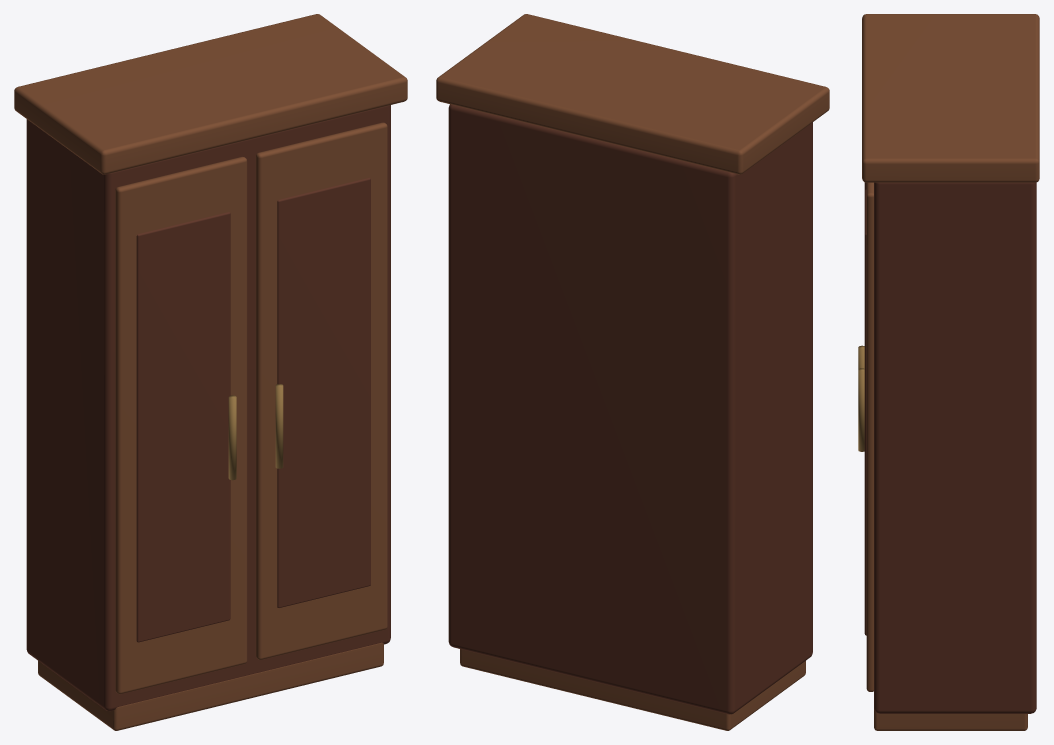
Rendered from wardrobe.glb.
3 views of the same model, side by side, from view 1: azimuth 30°, elevation 25°; view 2: azimuth 150°, elevation 25°; view 3: azimuth 270°, elevation 25° (orthographic).
Parts seen in each view (by area): view 1: wardrobe__Dark_mahogany, wardrobe__Mahogany_edges, wardrobe__Aged_brass; view 2: wardrobe__Dark_mahogany, wardrobe__Mahogany_edges; view 3: wardrobe__Dark_mahogany, wardrobe__Mahogany_edges, wardrobe__Aged_brass.
Boxes of the visible parts, <box> form: wardrobe__Dark_mahogany: <box>26,105,390,711</box>; wardrobe__Mahogany_edges: <box>14,14,407,730</box>; wardrobe__Aged_brass: <box>228,384,283,480</box>; wardrobe__Dark_mahogany: <box>448,104,812,714</box>; wardrobe__Mahogany_edges: <box>436,14,829,730</box>; wardrobe__Dark_mahogany: <box>864,182,1036,713</box>; wardrobe__Mahogany_edges: <box>862,14,1039,730</box>; wardrobe__Aged_brass: <box>858,345,864,451</box>.
Size of the model in its own units: 1.18 by 2.16 by 0.613.
